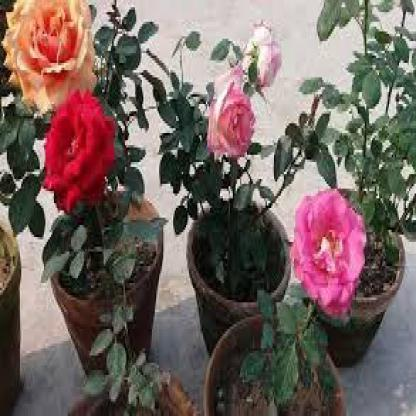Rose-Mawar: (4, 6, 119, 206), (294, 173, 372, 323), (207, 76, 258, 163), (243, 16, 280, 91)
